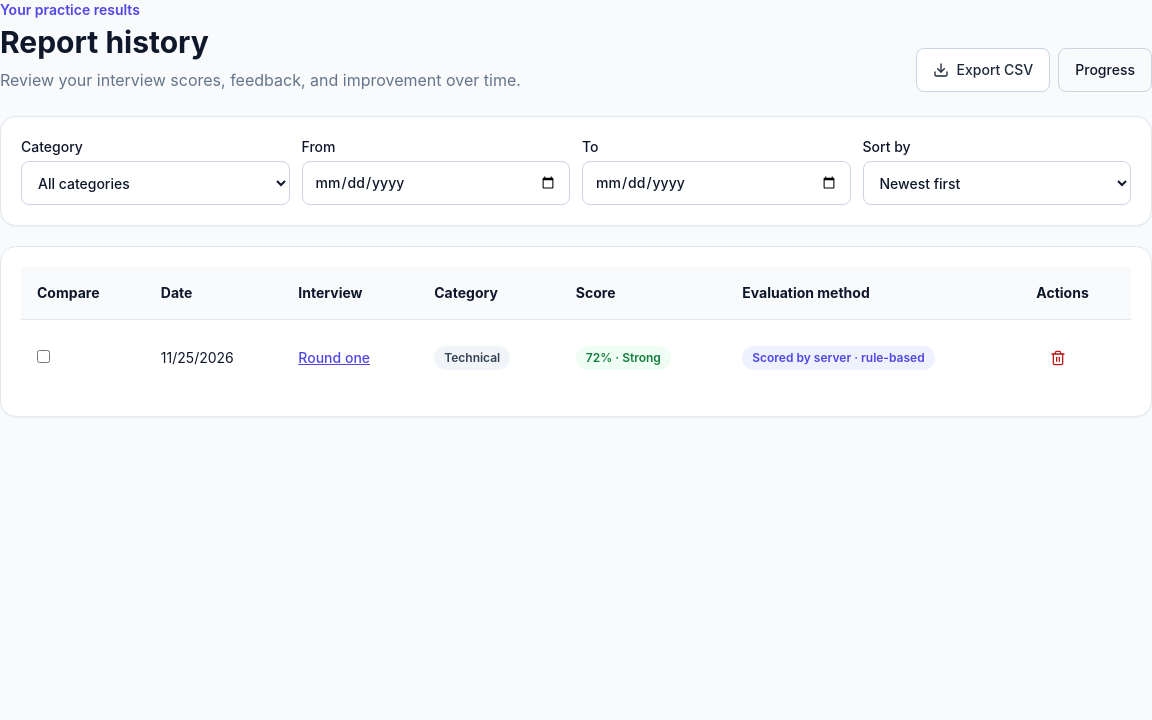
ReportHistoryPage › requires confirmation before deleting a report and its interview data
Click the button named "Delete report: Round one" at (1058, 358), box [1036,336,1080,380]
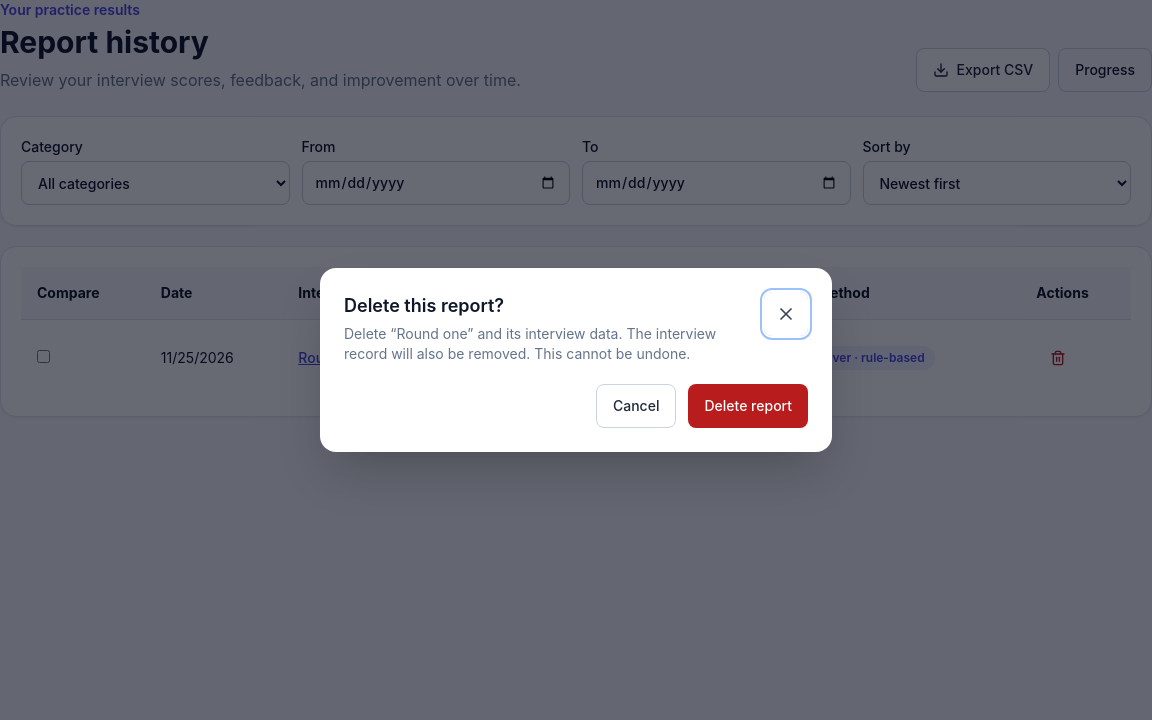
Expected: the dialog shows "The interview record will also be removed", [344,325,716,362]
Click the button "Delete report" at (748, 406), box [688,384,808,428]
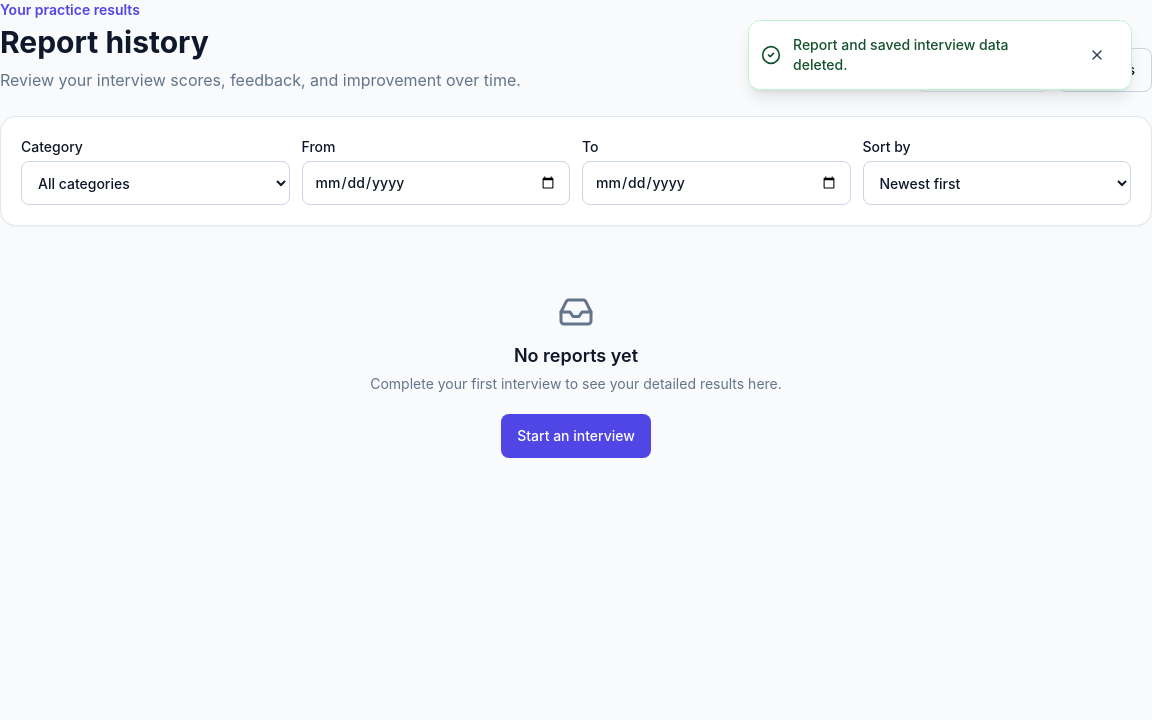
Expected: the heading "No reports yet" is shown, [514,342,638,370]
